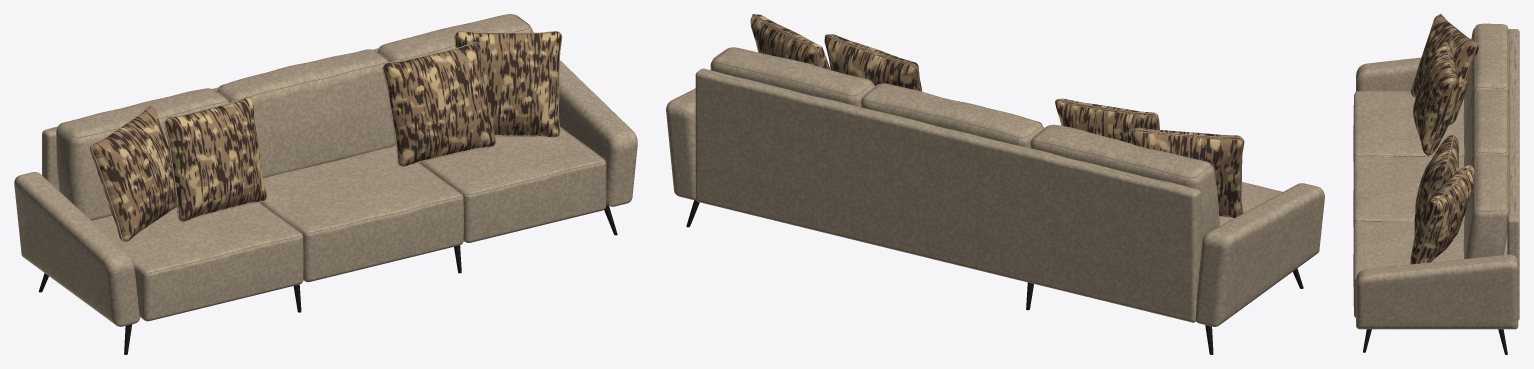
Rendered from straight.glb.
3 views of the same model, side by side, from view 1: azimuth 30°, elevation 25°; view 2: azimuth 150°, elevation 25°; view 3: azimuth 270°, elevation 25° (orthographic). The views are drawn at different scales.
Parts seen in each view (by area): view 1: fabric (×2), accent, pillows, legs; view 2: fabric (×2), accent, pillows, legs; view 3: fabric (×2), accent, pillows, legs.
Part boxes in pixels (x1,y1,x2,y2): fabric (×2): [14, 14, 637, 326]; accent: [89, 31, 560, 241]; pillows: [91, 30, 562, 242]; legs: [38, 204, 617, 354]; fabric (×2): [666, 47, 1324, 326]; accent: [750, 14, 1243, 217]; pillows: [752, 14, 1244, 213]; legs: [686, 200, 1303, 354]; fabric (×2): [1353, 23, 1519, 329]; accent: [1410, 15, 1478, 264]; pillows: [1415, 14, 1476, 263]; legs: [1363, 329, 1507, 354].
Bounding box in the file's own units: 3 × 0.9634 × 0.971.
4 materials, 4 textured.
